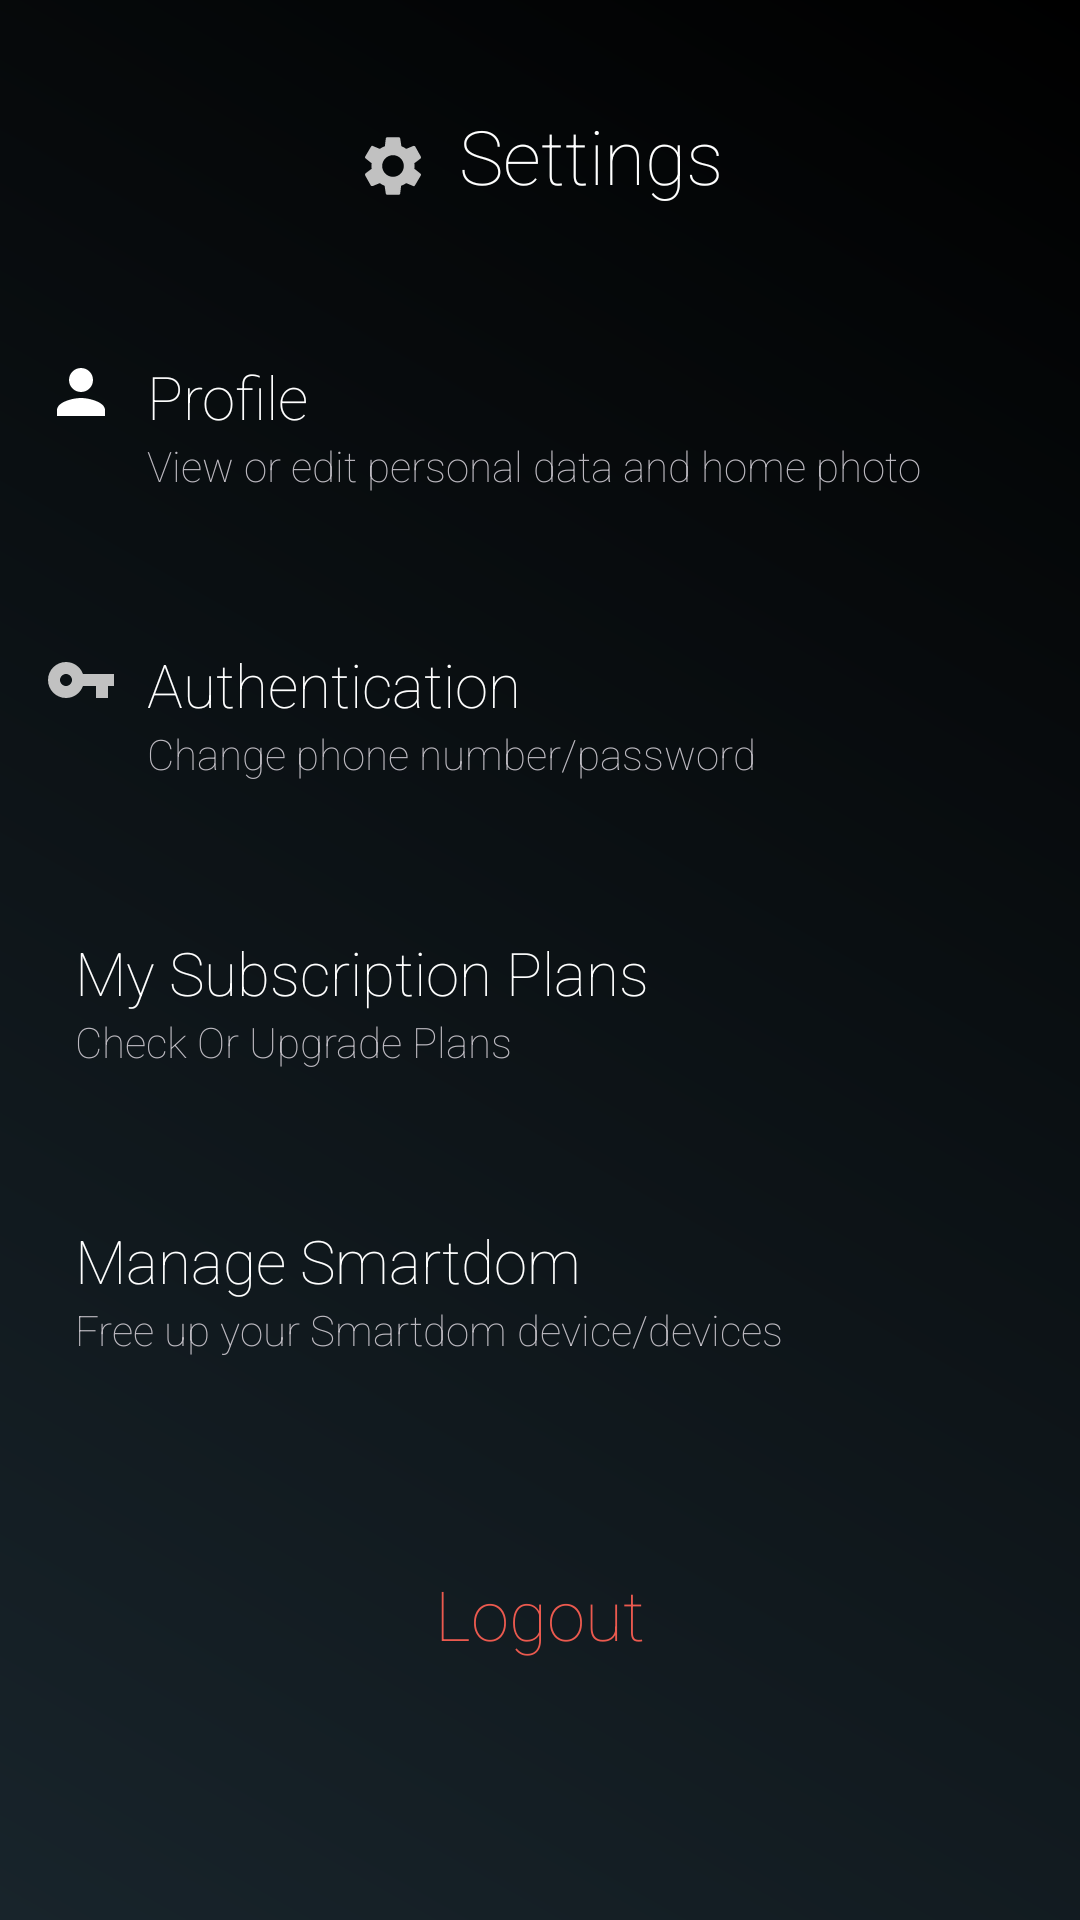

Where icons sit on this 1080w x 1920h app screen, as (x1, y1, x2, y2):
vpn key: (48, 662, 114, 698)
